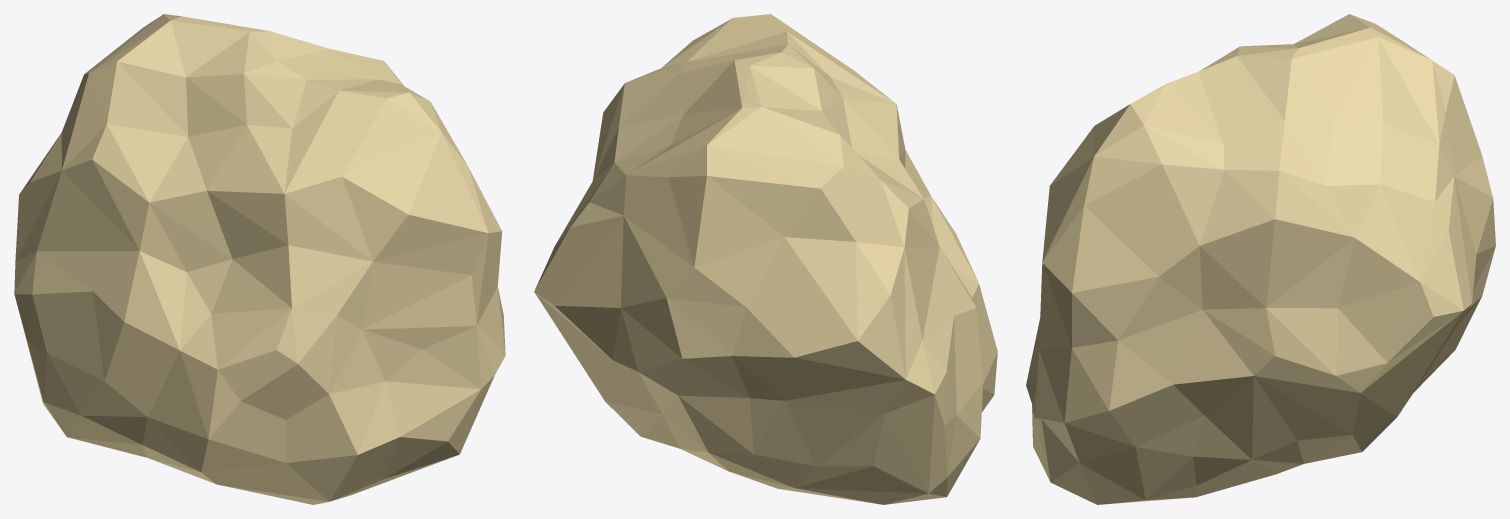
Rendered from Asteroid (64).fbx.
3 renders of one model, left to right at view 1: azimuth 30°, elevation 25°; view 2: azimuth 150°, elevation 25°; view 3: azimuth 270°, elevation 25°, orthographic. The views are drawn at different scales.
Visible parts, largest first — view 1: Asteroid112; view 2: Asteroid112; view 3: Asteroid112.
Boxes of the visible parts, x1,y1,x2,y2 form: Asteroid112: (14, 14, 505, 504); Asteroid112: (534, 14, 997, 504); Asteroid112: (1026, 14, 1495, 504).
Size of the model in its own units: 225 by 236 by 232.
